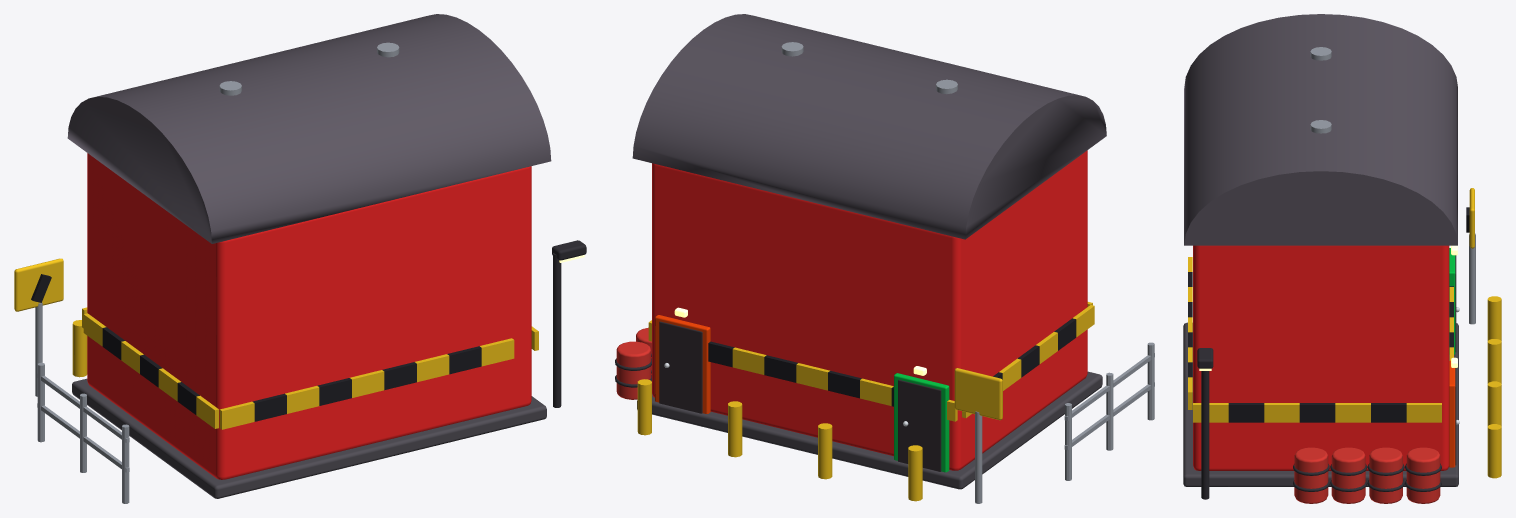
The model's file is building_explosive_warehouse_t3.glb.
3 renders of one model, left to right at view 1: azimuth 30°, elevation 25°; view 2: azimuth 150°, elevation 25°; view 3: azimuth 270°, elevation 25°, orthographic. The views are drawn at different scales.
Parts seen in each view (by area): view 1: Walls, Roof.Barrel, Plinth, Sign.Plate, Lamp.Post, Fence.Rail, Bollard, Hazard.Seg.009, Hazard.Seg.017, Hazard.Seg.016, Hazard.Seg.012, Hazard.Seg.011 (+4 smaller); view 2: Walls, Roof.Barrel, Plinth, Exit.Leaf, Entry.Leaf, Bollard, Sign.Plate, Drum0.Drum, Exit.Frame, Entry.Frame, Fence.Rail, Sign.Post (+5 smaller); view 3: Roof.Barrel, Walls, Plinth, Bollard, Drum2.Drum, Drum3.Drum, Drum0.Drum, Drum1.Drum, Lamp.Post, Hazard.Seg.026, Hazard.Seg.028, Hazard.Seg.027 (+8 smaller).
Part boxes in pixels (x1=…): Walls: x1=87, y1=153, x2=531, y2=479; Roof.Barrel: x1=67, y1=14, x2=551, y2=243; Plinth: x1=72, y1=378, x2=546, y2=498; Sign.Plate: x1=14, y1=258, x2=63, y2=311; Lamp.Post: x1=553, y1=253, x2=561, y2=407; Fence.Rail: x1=37, y1=374, x2=129, y2=472; Bollard: x1=72, y1=320, x2=87, y2=377; Hazard.Seg.009: x1=219, y1=401, x2=254, y2=429; Hazard.Seg.017: x1=480, y1=338, x2=514, y2=366; Hazard.Seg.016: x1=447, y1=346, x2=481, y2=374; Hazard.Seg.012: x1=317, y1=378, x2=351, y2=405; Hazard.Seg.011: x1=285, y1=386, x2=319, y2=413; Walls: x1=652, y1=150, x2=1087, y2=470; Roof.Barrel: x1=632, y1=14, x2=1106, y2=239; Plinth: x1=637, y1=371, x2=1102, y2=489; Exit.Leaf: x1=659, y1=321, x2=702, y2=413; Entry.Leaf: x1=898, y1=379, x2=941, y2=471; Bollard: x1=637, y1=379, x2=922, y2=501; Sign.Plate: x1=954, y1=368, x2=1002, y2=420; Drum0.Drum: x1=616, y1=341, x2=651, y2=399; Exit.Frame: x1=655, y1=315, x2=710, y2=413; Entry.Frame: x1=894, y1=373, x2=949, y2=472; Fence.Rail: x1=1064, y1=353, x2=1154, y2=450; Sign.Post: x1=975, y1=411, x2=982, y2=503; Roof.Barrel: x1=1184, y1=14, x2=1457, y2=245; Walls: x1=1193, y1=245, x2=1449, y2=470; Plinth: x1=1183, y1=322, x2=1458, y2=486; Bollard: x1=1487, y1=296, x2=1501, y2=478; Drum2.Drum: x1=1331, y1=447, x2=1365, y2=503; Drum3.Drum: x1=1294, y1=447, x2=1328, y2=503; Drum0.Drum: x1=1406, y1=447, x2=1440, y2=503; Drum1.Drum: x1=1369, y1=447, x2=1402, y2=503; Lamp.Post: x1=1201, y1=371, x2=1209, y2=499; Hazard.Seg.026: x1=1228, y1=403, x2=1264, y2=422; Hazard.Seg.028: x1=1299, y1=403, x2=1335, y2=422; Hazard.Seg.027: x1=1264, y1=403, x2=1299, y2=422.
Bounding box in the file's own units: 5.57 × 4.01 × 3.58.
